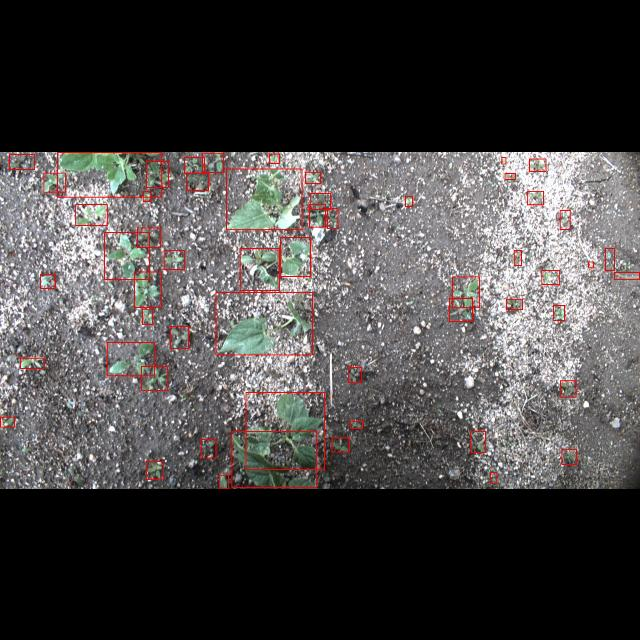crop: (246, 392, 324, 470), (216, 292, 312, 354), (232, 431, 316, 487), (58, 152, 162, 196), (226, 168, 302, 228), (104, 231, 150, 279), (280, 237, 310, 276), (134, 271, 162, 307), (76, 203, 106, 224), (146, 160, 168, 186)
weed: (240, 248, 280, 290), (108, 342, 154, 376), (452, 276, 480, 308), (140, 366, 168, 390), (449, 298, 473, 320), (138, 227, 160, 247), (202, 152, 224, 172), (170, 326, 188, 348), (187, 172, 209, 190), (44, 172, 66, 190), (164, 250, 184, 268), (309, 204, 325, 226), (10, 154, 34, 168), (146, 461, 164, 479), (200, 438, 216, 458), (470, 432, 486, 452), (184, 156, 204, 172), (310, 192, 330, 208), (560, 380, 576, 396), (20, 358, 44, 368), (332, 438, 348, 452), (348, 366, 362, 382), (40, 274, 56, 288), (542, 270, 558, 284), (528, 190, 544, 204), (530, 157, 546, 170), (560, 209, 570, 229), (328, 207, 338, 227), (562, 450, 576, 464), (506, 298, 522, 310), (606, 248, 614, 270), (306, 171, 320, 183), (142, 308, 152, 324), (554, 304, 564, 320), (614, 272, 640, 278), (0, 417, 14, 427), (220, 474, 228, 488), (514, 250, 522, 264), (269, 153, 279, 163), (350, 420, 362, 428), (405, 195, 413, 205), (143, 191, 151, 201), (504, 172, 516, 178), (491, 472, 497, 483), (588, 261, 594, 267), (502, 157, 506, 163)
